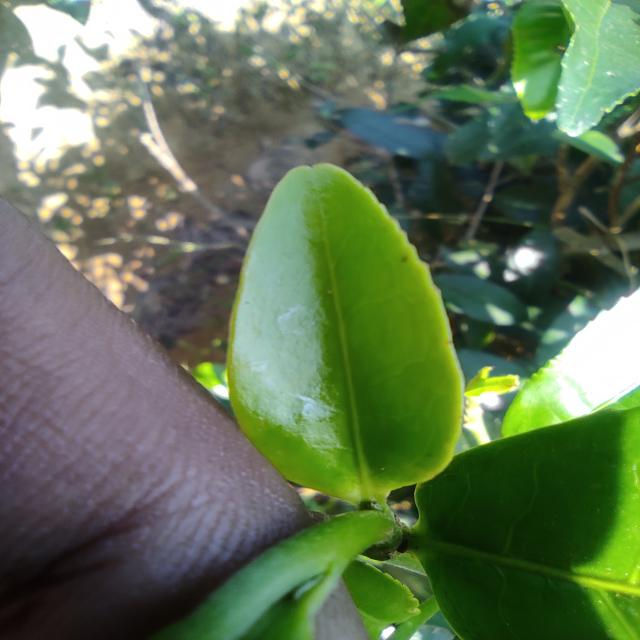Category C(4-7 days): (205, 155, 481, 504)
